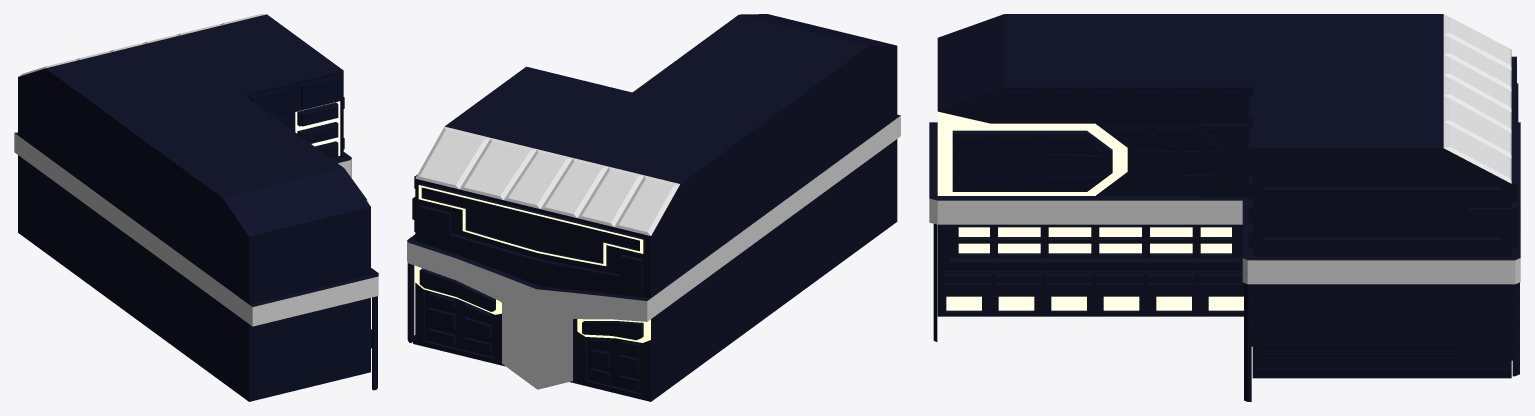
Rendered from building2.fbx.
3 renders of one model, left to right at view 1: azimuth 30°, elevation 25°; view 2: azimuth 150°, elevation 25°; view 3: azimuth 270°, elevation 25°, orthographic. The views are drawn at different scales.
Visible parts, largest first — view 1: Cube.044; view 2: Cube.044; view 3: Cube.044.
Boxes of the visible parts, x1,y1,x2,y2 form: Cube.044: (14,14,378,401); Cube.044: (407,14,900,401); Cube.044: (929,14,1520,401).
Size of the model in its own units: 2306 by 1952 by 4178.
